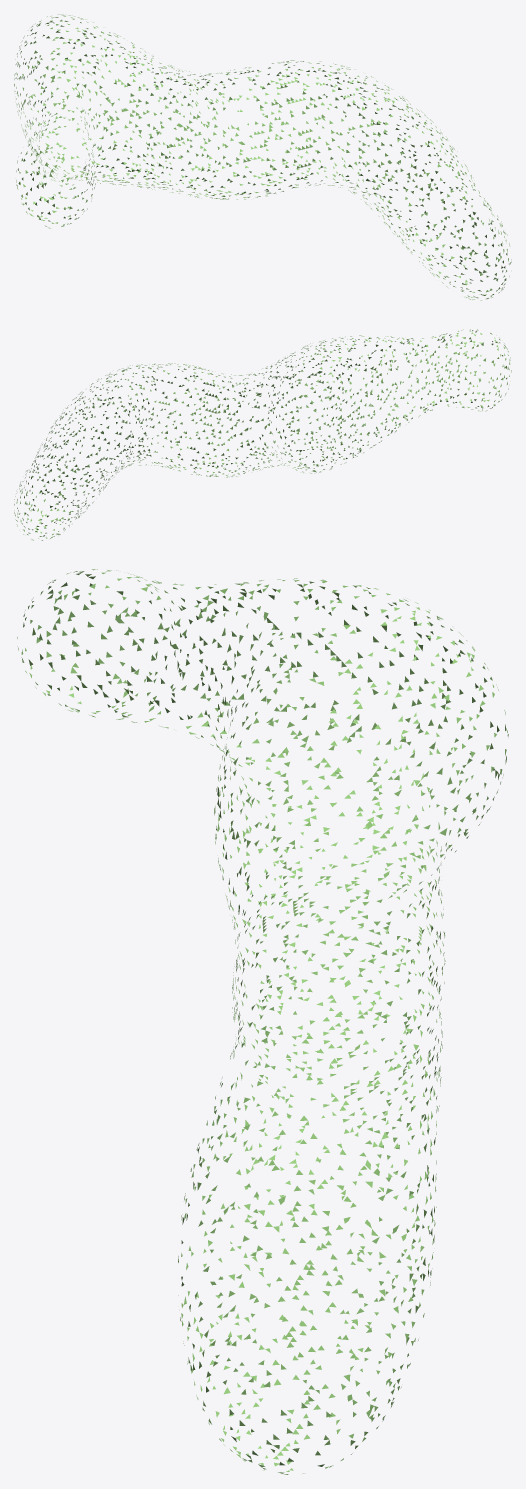
File: morph_014.glb
3 views of the same model, one above another, from view 1: azimuth 30°, elevation 25°; view 2: azimuth 150°, elevation 25°; view 3: azimuth 270°, elevation 25° (orthographic). The views are drawn at different scales.
Size of the model in its own units: 104 by 66.05 by 51.58.
